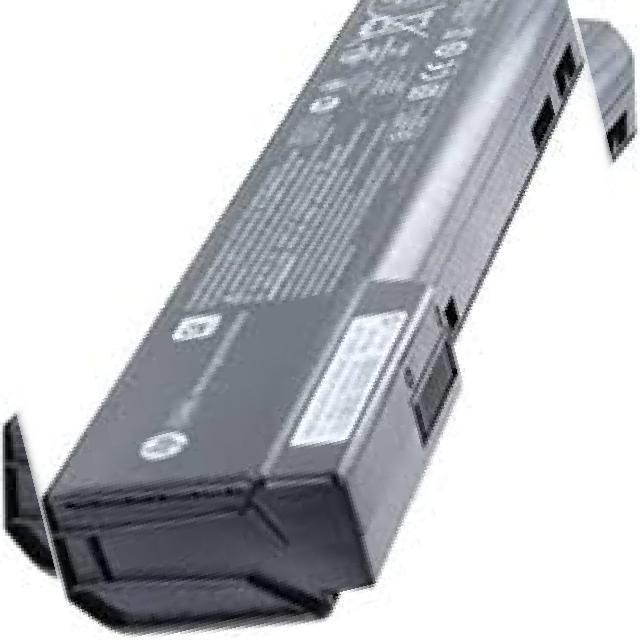Battery: (43, 0, 598, 633)
